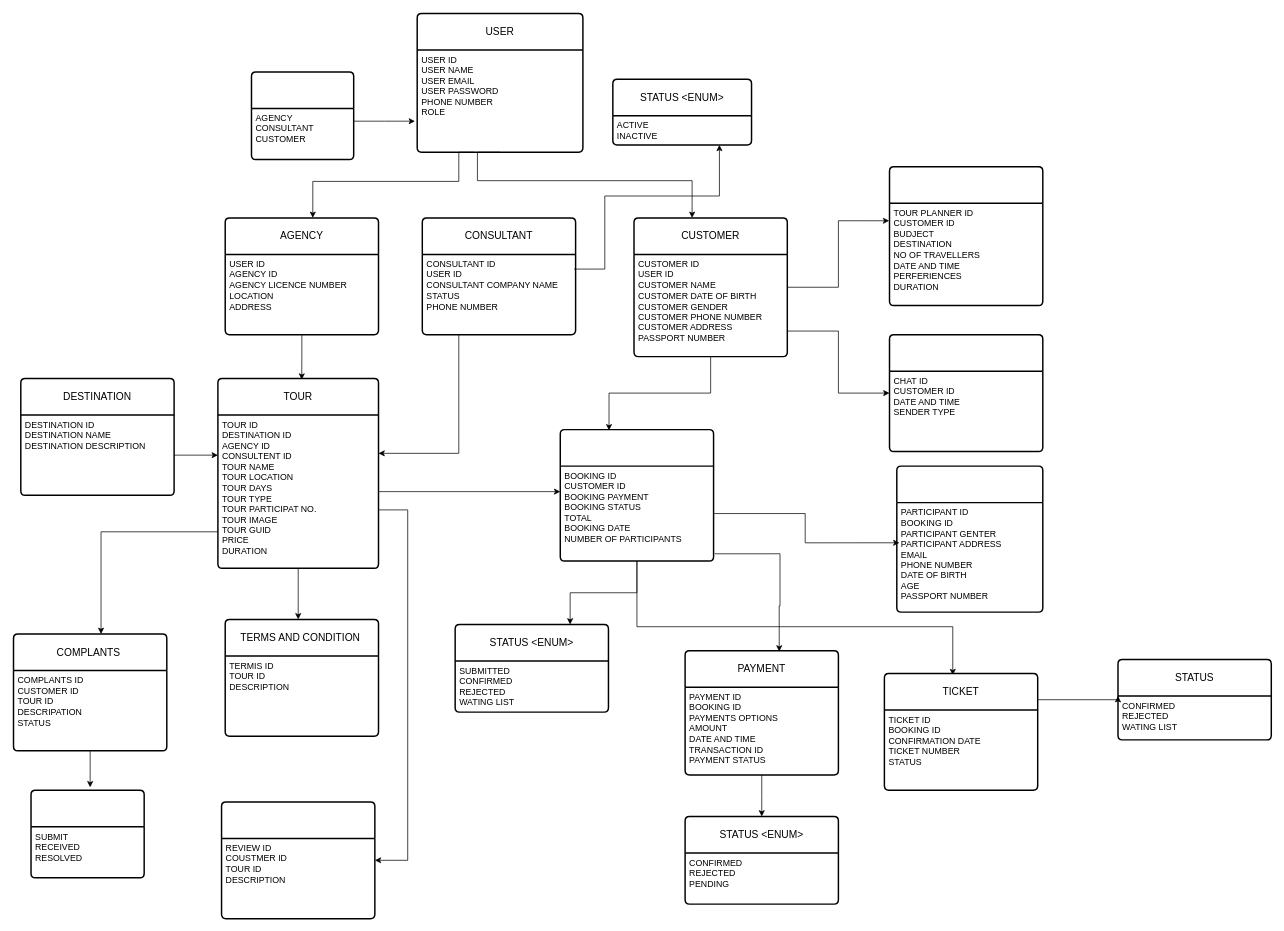
Image size: 1284x931. Some labels were removed from this diagram. Here are the shapes that lost their labels. From the top down, the box of each, then its label:
(250, 71, 354, 160): ROLE
(888, 166, 1043, 306): AI TOUR PLANNER
(888, 334, 1043, 452): AI CHAT BOT
(559, 429, 714, 561): TOUR BOOKING
(896, 465, 1043, 612): PARTICIPANTS
(30, 789, 145, 878): SATTUS <ENUM>
(220, 801, 375, 919): REVIEW AND FEEDBACK
